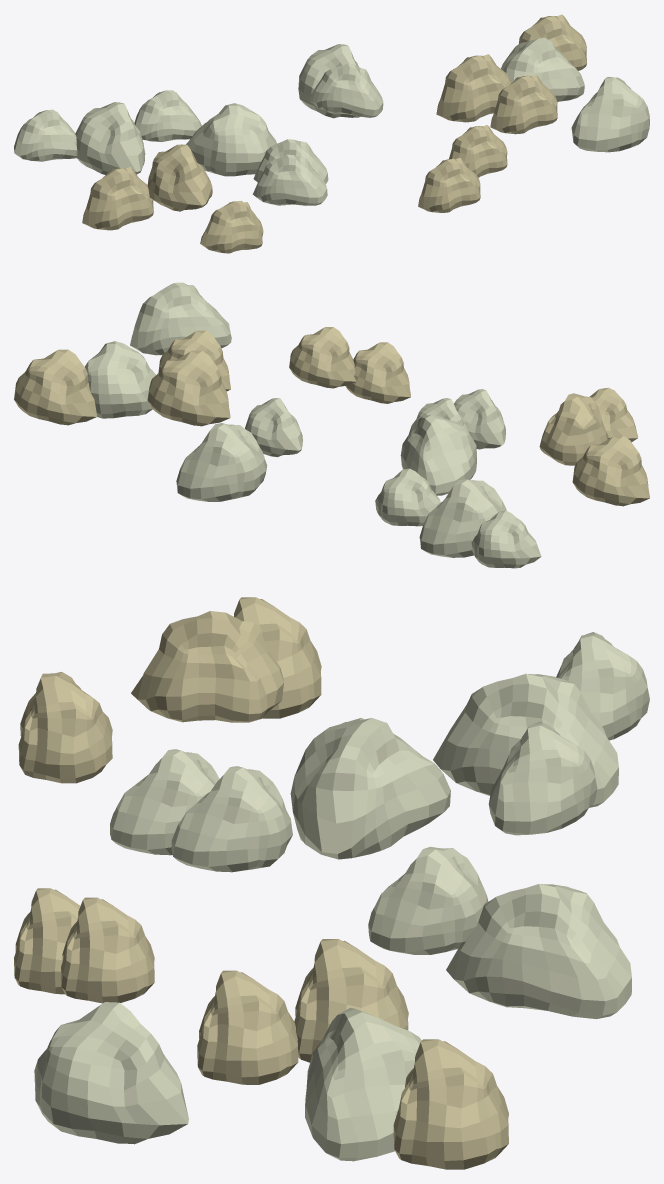
File: lakestones_old.fbx
The picture shows the model from 3 angles, top to bottom: view 1: azimuth 30°, elevation 25°; view 2: azimuth 150°, elevation 25°; view 3: azimuth 270°, elevation 25°; orthographic projection. The views are drawn at different scales.
Parts seen in each view (by area): view 1: polySurface45; view 2: polySurface45; view 3: polySurface45.
Part boxes in pixels (box(x1,y1,x2,y2)): polySurface45: box(14, 14, 649, 253); polySurface45: box(14, 282, 649, 568); polySurface45: box(14, 597, 649, 1169).
Size of the model in its own units: 15.87 by 2.34 by 8.39.
